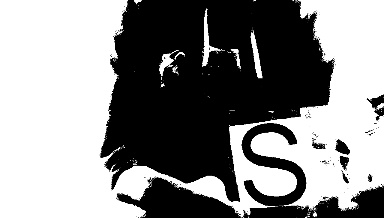S: (235, 119, 311, 211)
